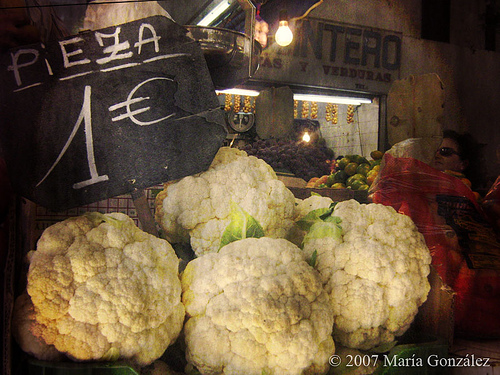cauliflower: (27, 212, 182, 366), (297, 195, 435, 357), (179, 233, 337, 372), (154, 136, 309, 252)
